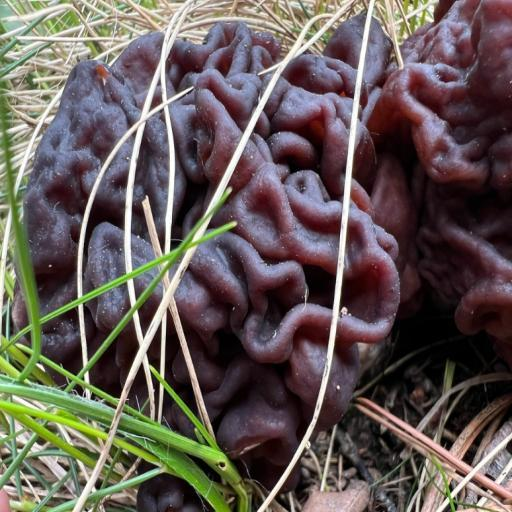mushroom: (23, 4, 512, 494)
